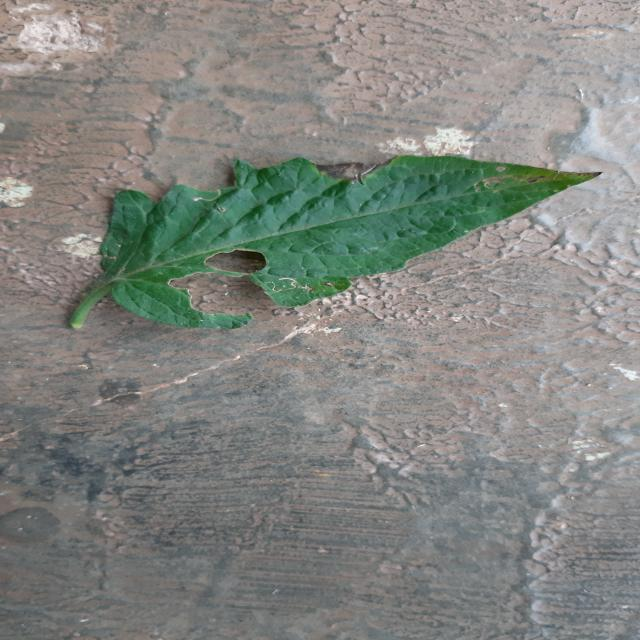defectedtomato: (280, 156, 598, 235)
tomato: (71, 155, 598, 329)
